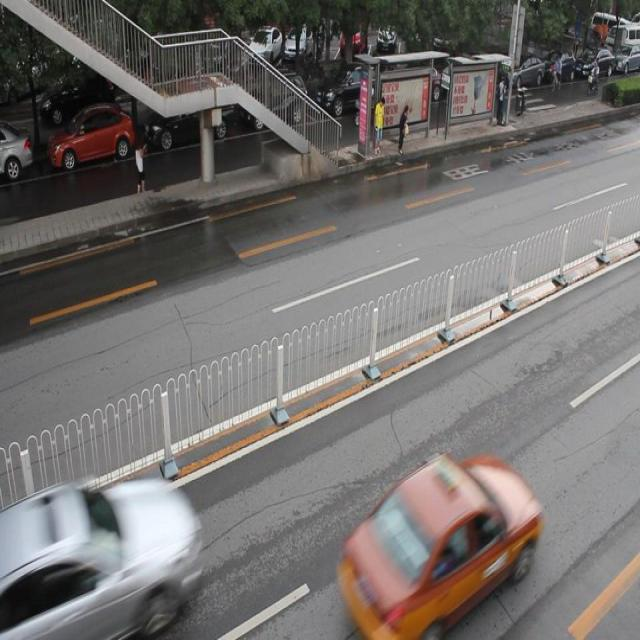car: (334, 451, 543, 640), (0, 477, 202, 640), (48, 106, 136, 173), (142, 92, 236, 144), (315, 61, 391, 119), (240, 72, 309, 133), (1, 125, 36, 182)
